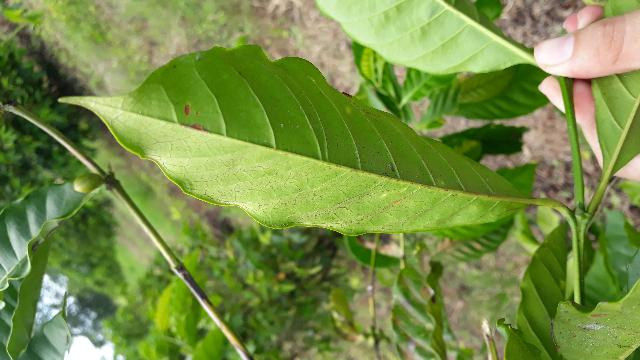rust_level_1: (53, 39, 533, 244)
